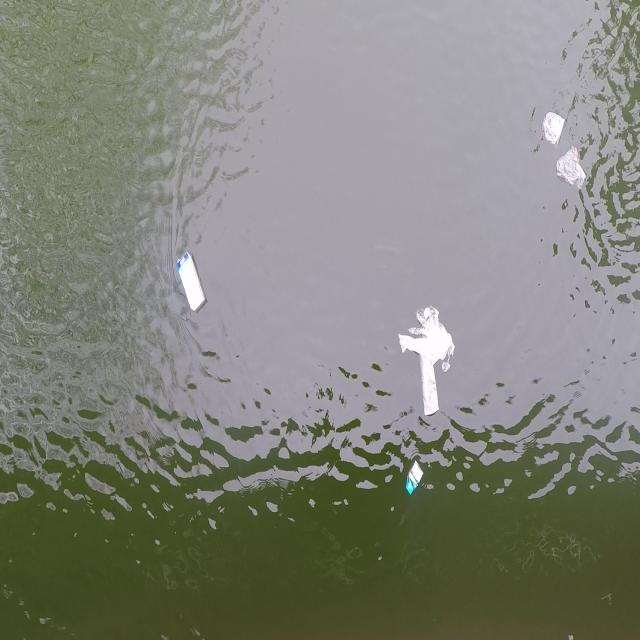Non plastique: (175, 245, 208, 319)
Sac plastique: (397, 300, 460, 422), (553, 146, 591, 197), (539, 107, 569, 146)
